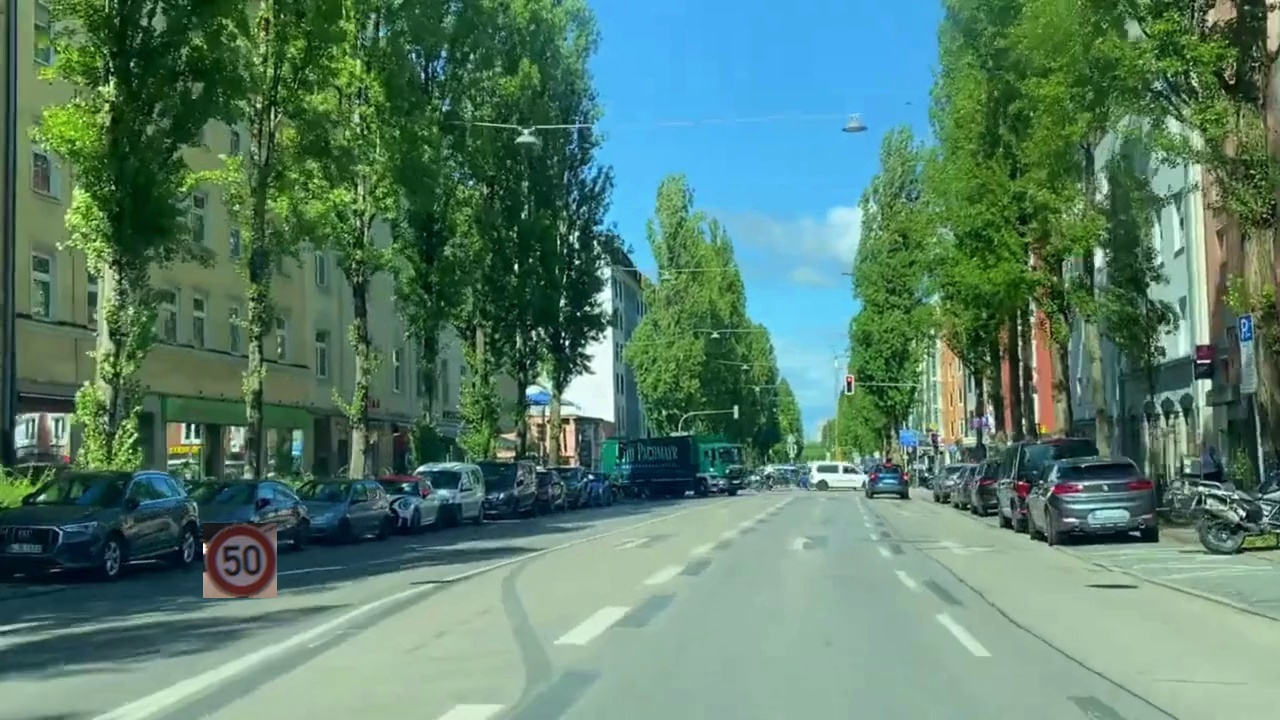Speed 50: (203, 523, 277, 598)
